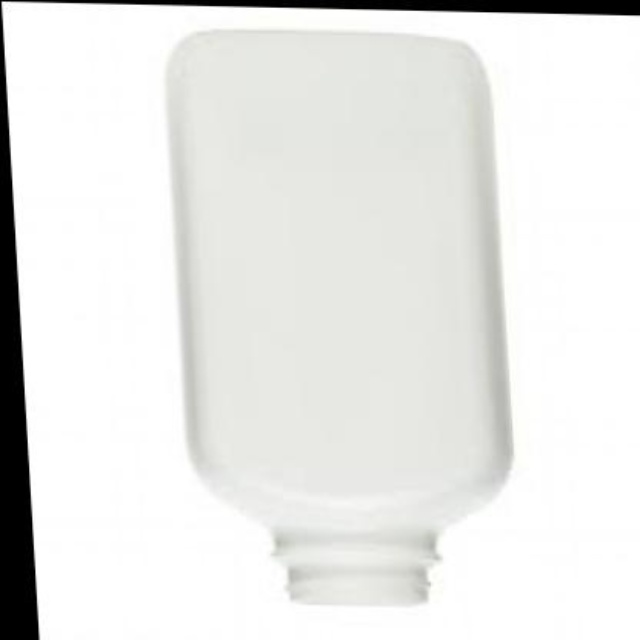trash: (168, 31, 511, 603)
